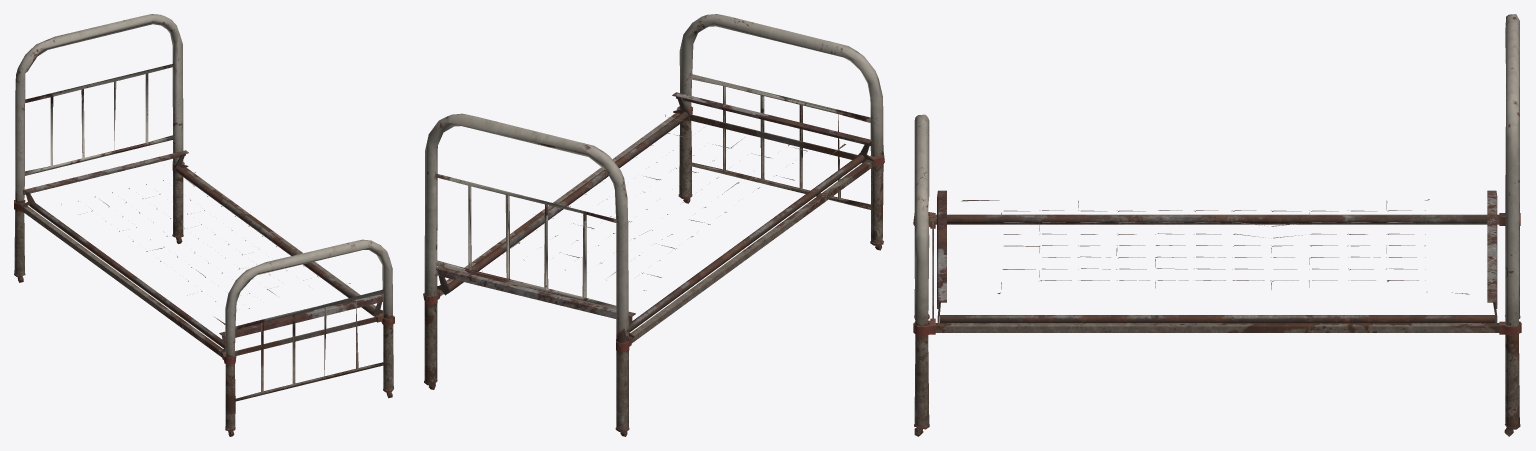
Rendered from old_bed_frame.glb.
3 renders of one model, left to right at view 1: azimuth 30°, elevation 25°; view 2: azimuth 150°, elevation 25°; view 3: azimuth 270°, elevation 25°, orthographic. The views are drawn at different scales.
Parts seen in each view (by area): view 1: old_bed_frame; view 2: old_bed_frame; view 3: old_bed_frame.
Boxes of the visible parts, x1,y1,x2,y2 form: old_bed_frame: (14, 14, 394, 436); old_bed_frame: (423, 14, 884, 436); old_bed_frame: (913, 14, 1521, 436).
Bounding box in the file's own units: 0.9047 × 1.2 × 2.
1 material, 1 textured.
